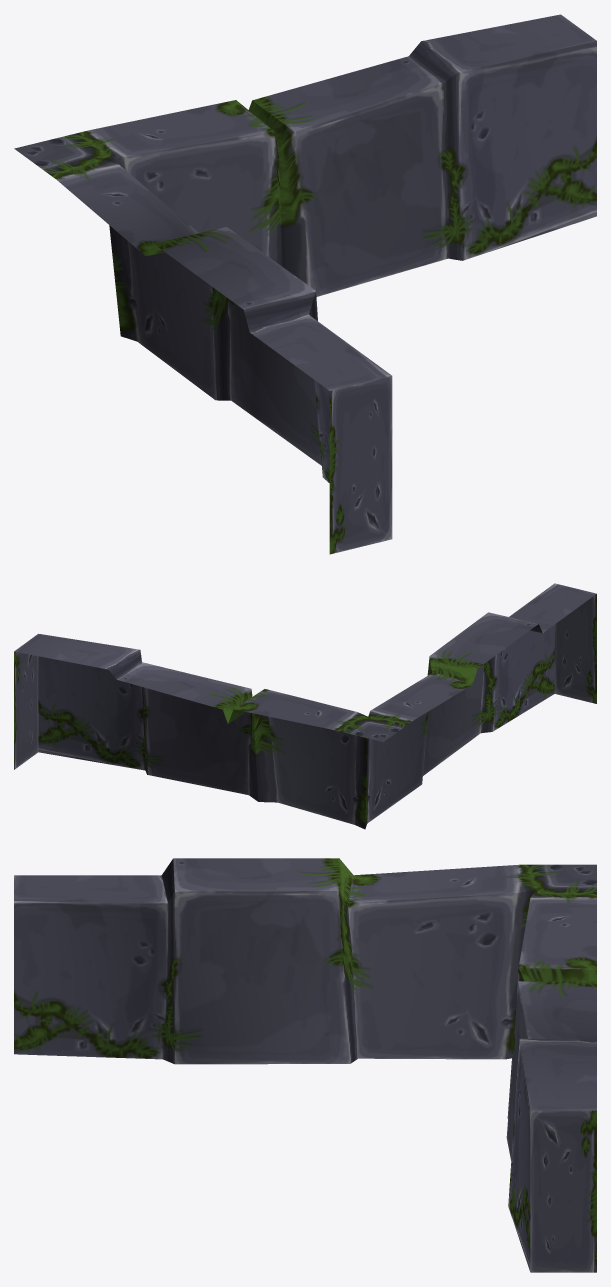
File: MOD_WallTrim_01_M_corner_1_2.fbx
The picture shows the model from 3 angles, top to bottom: view 1: azimuth 30°, elevation 25°; view 2: azimuth 150°, elevation 25°; view 3: azimuth 270°, elevation 25°; orthographic projection. The views are drawn at different scales.
Visible parts, largest first — view 1: MOD_WallTrim_01_M_corner_1_2; view 2: MOD_WallTrim_01_M_corner_1_2; view 3: MOD_WallTrim_01_M_corner_1_2.
Part boxes in pixels (box(x1,y1,x2,y2)): MOD_WallTrim_01_M_corner_1_2: box(14, 14, 596, 554); MOD_WallTrim_01_M_corner_1_2: box(14, 583, 596, 829); MOD_WallTrim_01_M_corner_1_2: box(14, 858, 596, 1272).
Size of what is drawn, in the model's own units: 175 by 55.91 by 175.
